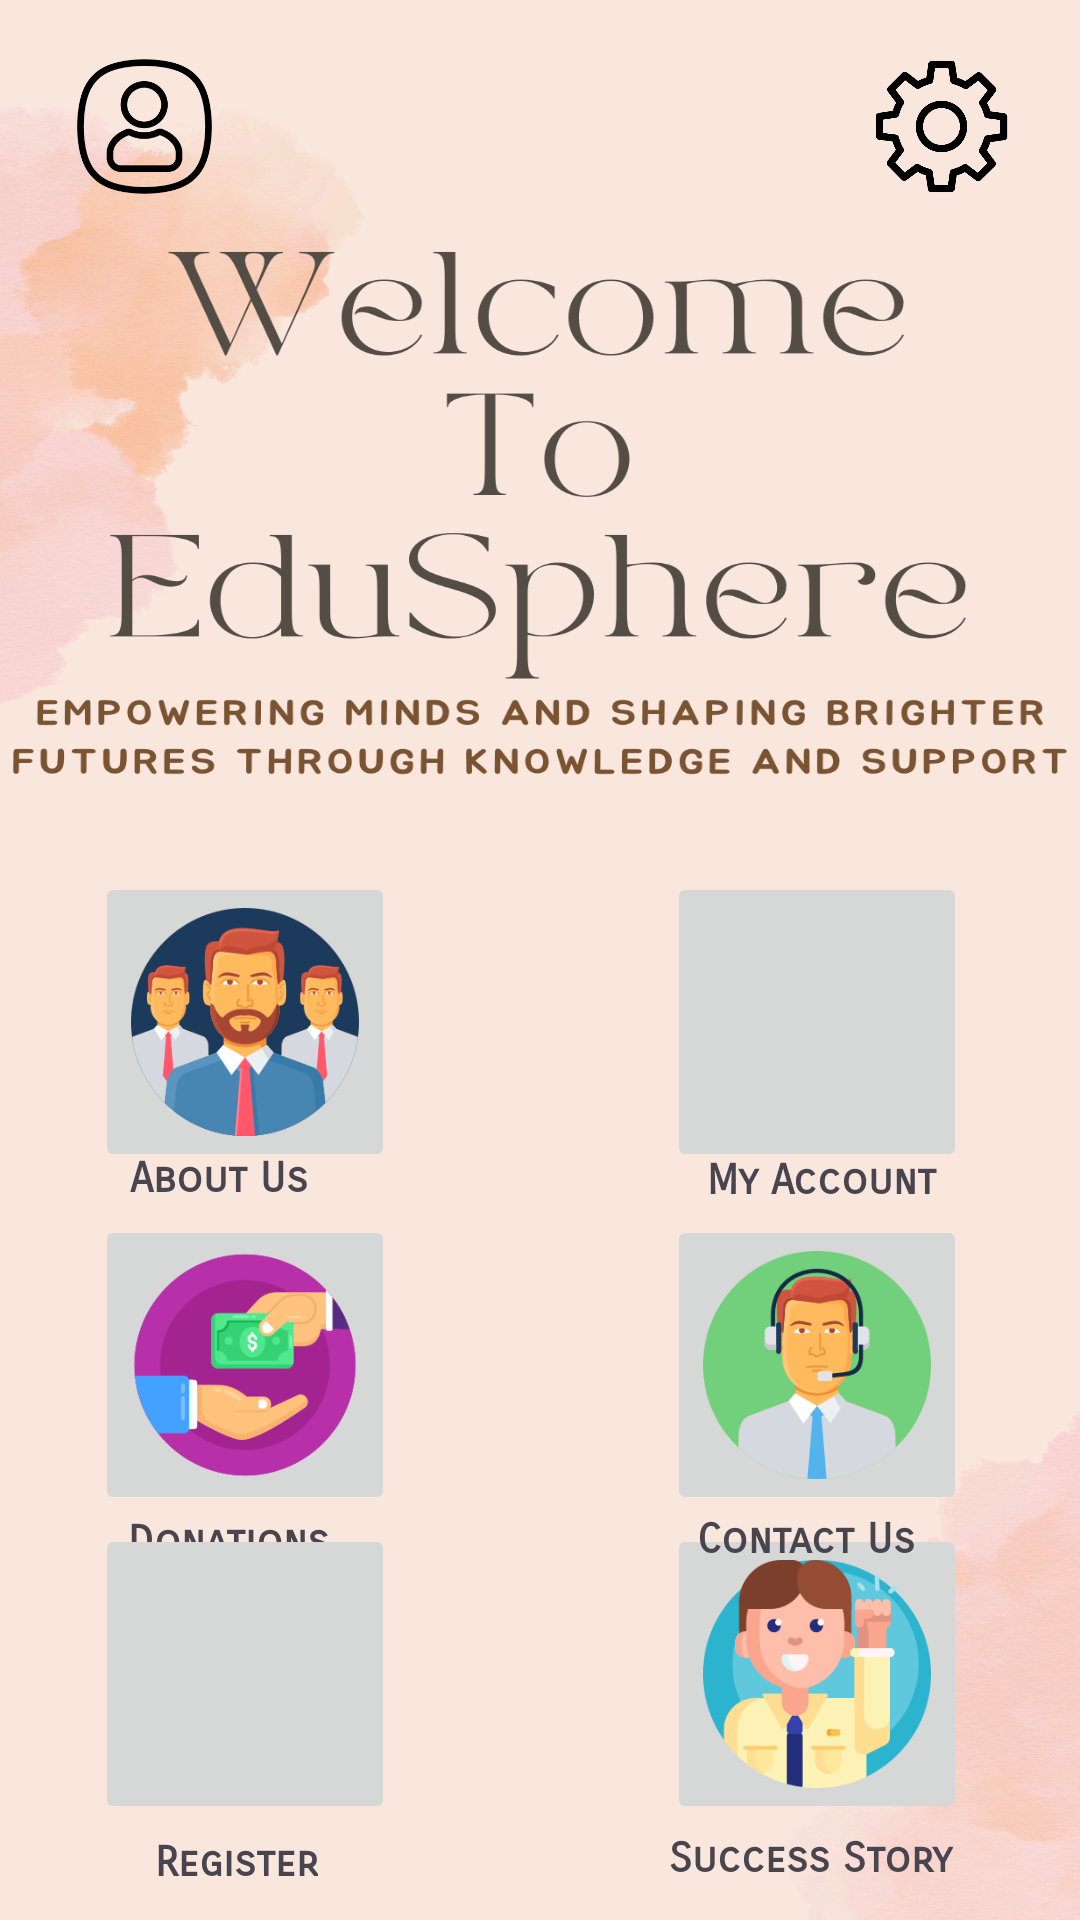

Named icons in this screenshot (1080 × 1920) and their bounding boxes, (left=x1, top=y1, right=x2, bottom=y2):
setting: (left=876, top=61, right=1008, bottom=192)
